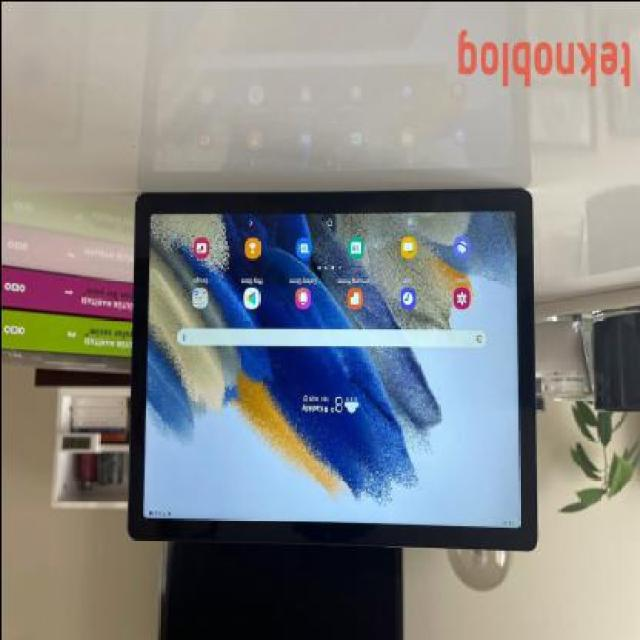tablet: (110, 159, 570, 567)
